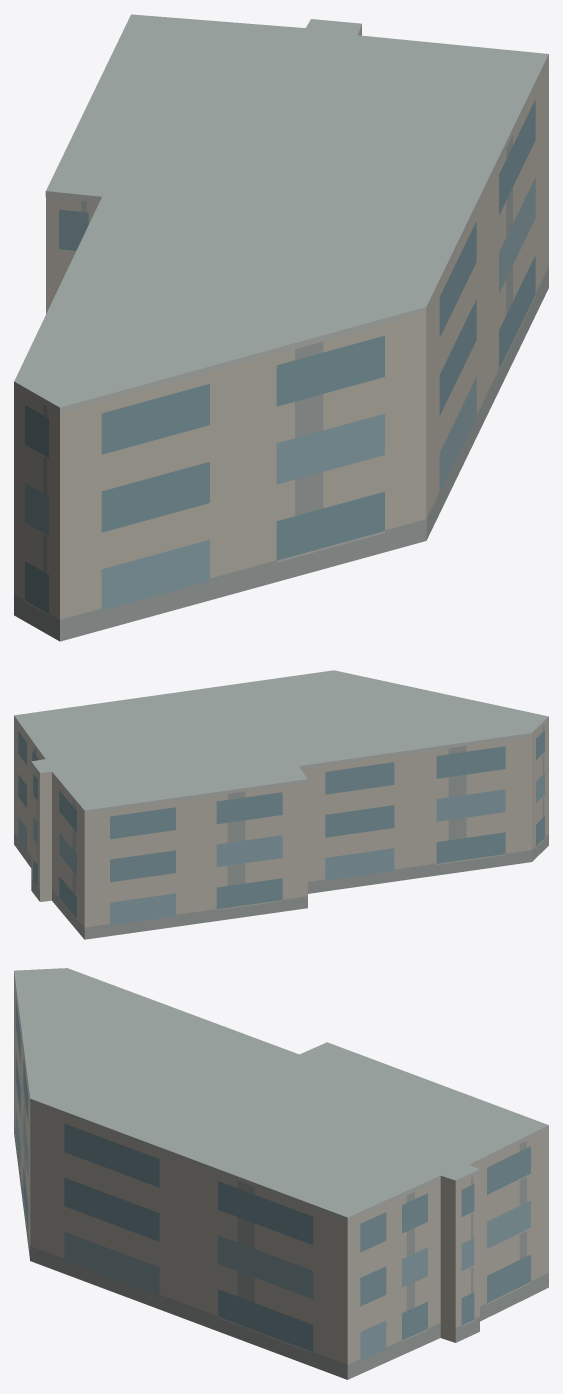
Rendered from survey-upis-32896736.glb.
3 views of the same model, one above another, from view 1: azimuth 30°, elevation 25°; view 2: azimuth 150°, elevation 25°; view 3: azimuth 270°, elevation 25° (orthographic). The views are drawn at different scales.
Visible parts, largest first — view 1: survey-upis-32896736.tmp; view 2: survey-upis-32896736.tmp; view 3: survey-upis-32896736.tmp.
Part boxes in pixels (bbox=[...]): survey-upis-32896736.tmp: bbox=[14, 14, 548, 641]; survey-upis-32896736.tmp: bbox=[14, 670, 548, 939]; survey-upis-32896736.tmp: bbox=[14, 968, 548, 1379].
Size of the model in its own units: 30.16 by 9.15 by 27.32.
